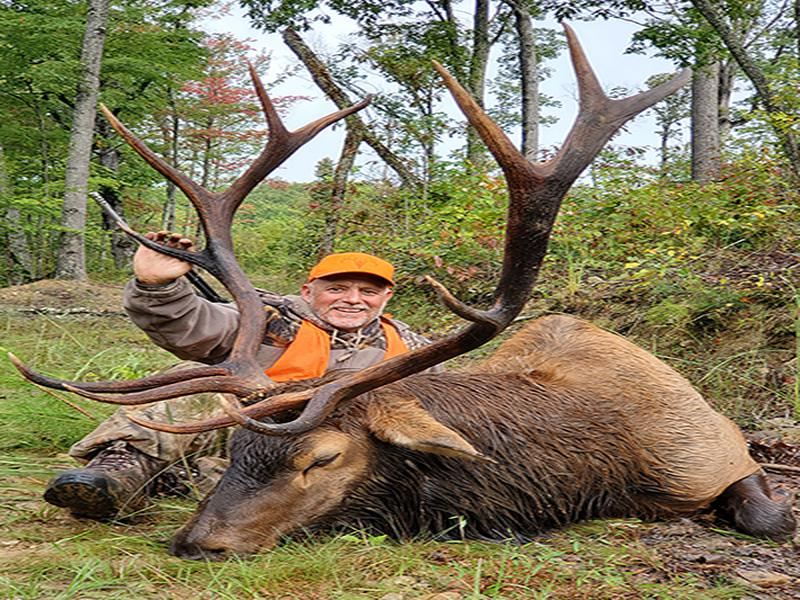elk: (147, 140, 800, 556)
